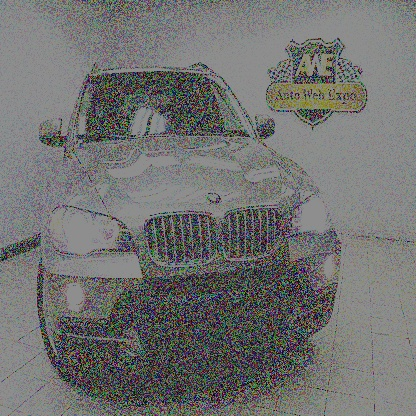Vehicle: (36, 59, 344, 390)
